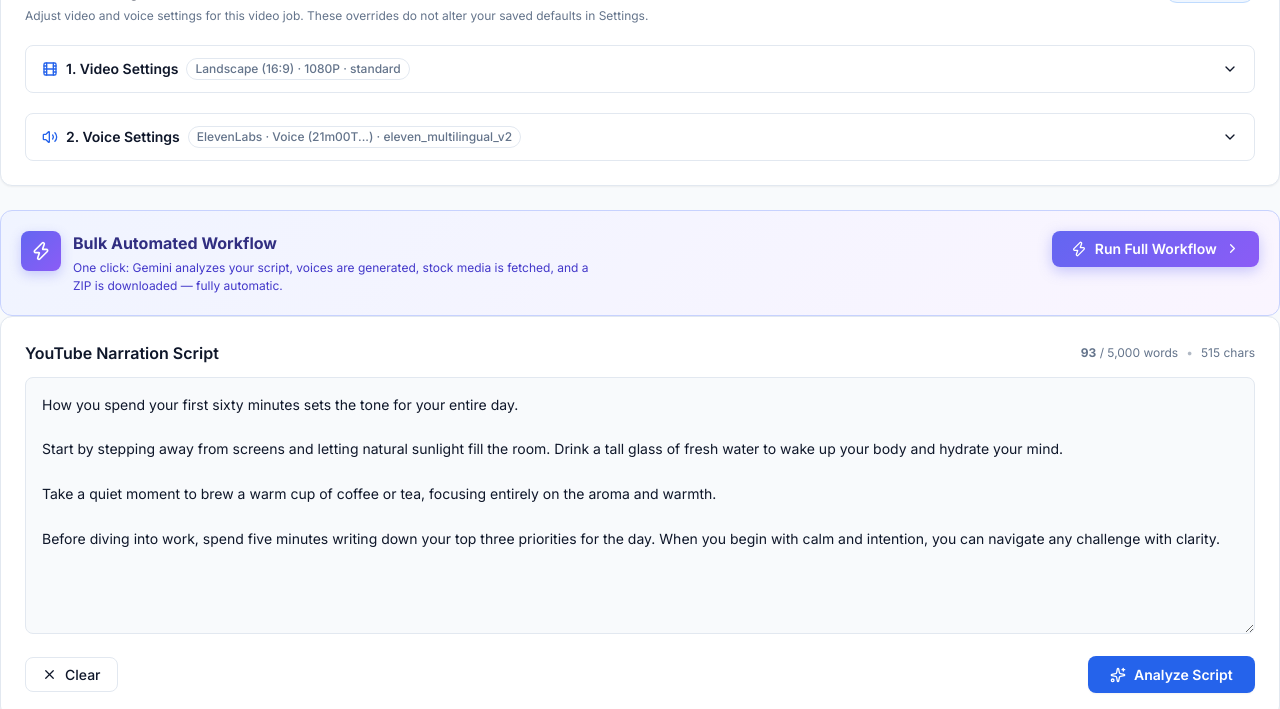
Test: WorkspacePage › updates live word and character counters as user types
(page scrolled)
Clear the text box with placeholder "Paste your YouTube video narration script here" at (640, 506), box [25,377,1255,634]
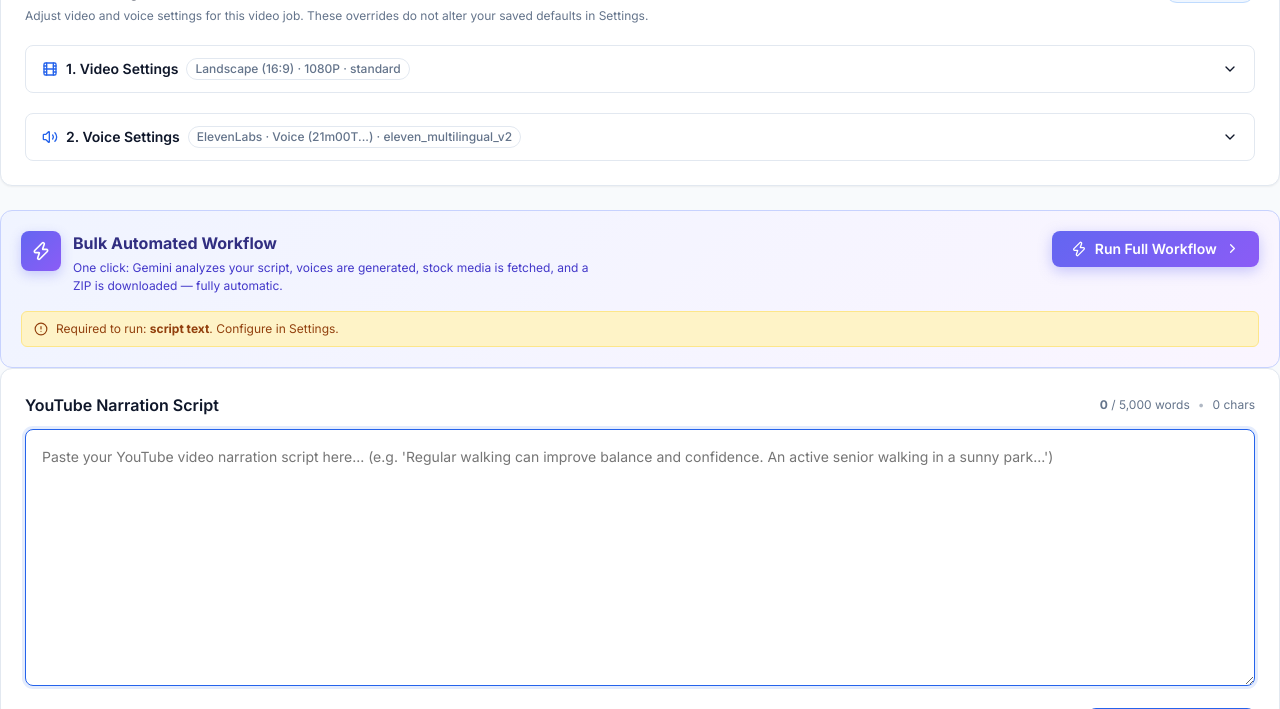
Type "Hello world of video" into the text box with placeholder "Paste your YouTube video narration script here" at (640, 558), box [25,429,1255,686]
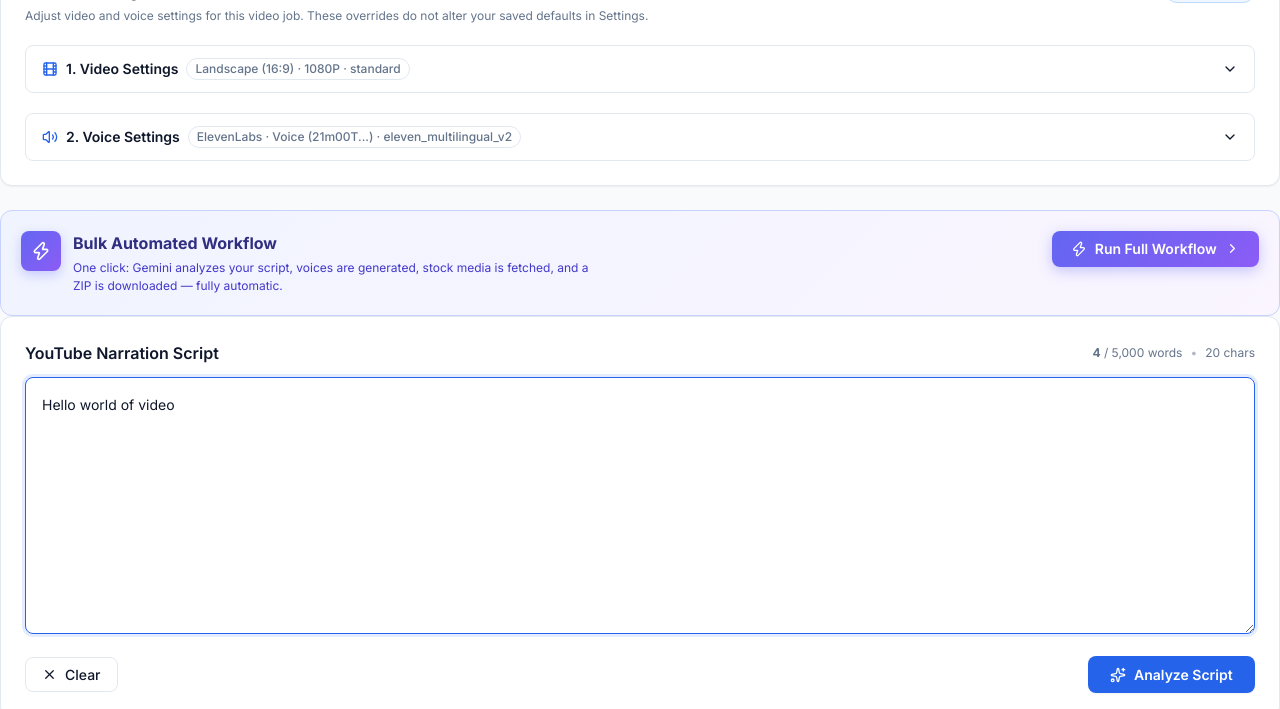
Expected: the element titled "Words count" shows "4", [1092,345,1100,360]
Expected: the text titled "Character count" reads "20 chars", [1205,344,1255,362]
Expected: the button "Analyze Script" is enabled, [1088,656,1255,693]
